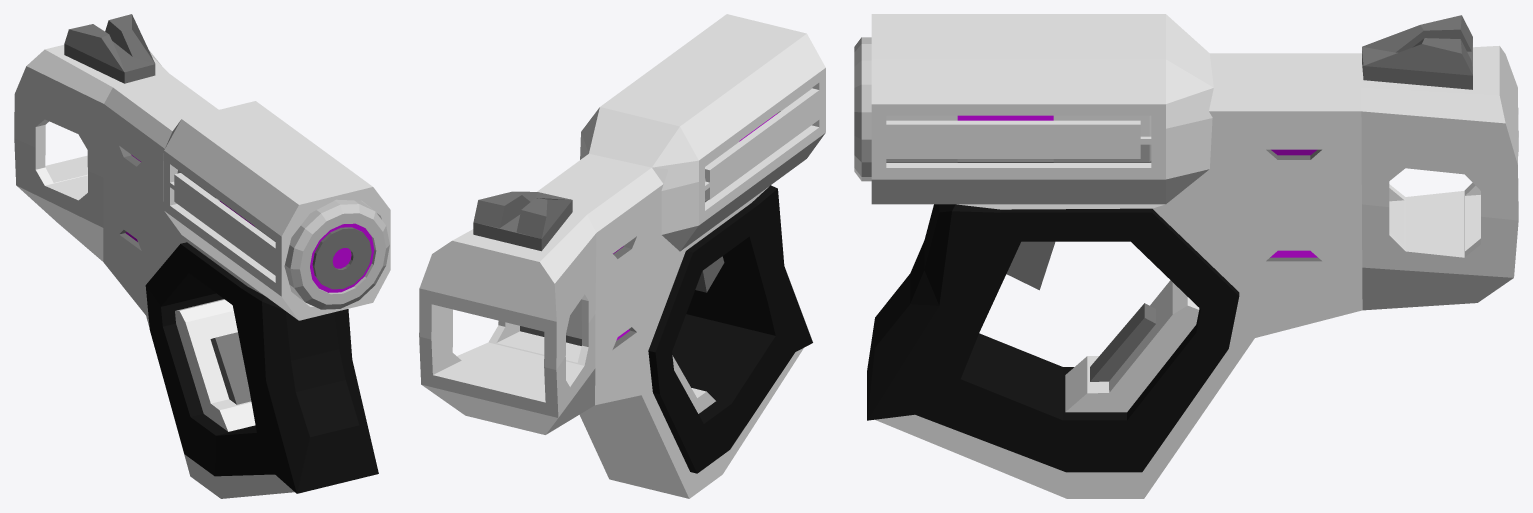
File: EnergyPistol.fbx
3 renders of one model, left to right at view 1: azimuth 30°, elevation 25°; view 2: azimuth 150°, elevation 25°; view 3: azimuth 270°, elevation 25°, orthographic. The views are drawn at different scales.
Parts seen in each view (by area): view 1: Gun, Battery; view 2: Gun; view 3: Gun, Battery.
Part boxes in pixels (left/top/right/bottom): Gun: left=14, top=14, right=390, bottom=498; Battery: left=177, top=170, right=389, bottom=309; Gun: left=419, top=14, right=825, bottom=498; Gun: left=867, top=14, right=1518, bottom=498; Battery: left=854, top=37, right=1151, bottom=181.
Size of the model in its own units: 12.86 by 34.13 by 46.5.
